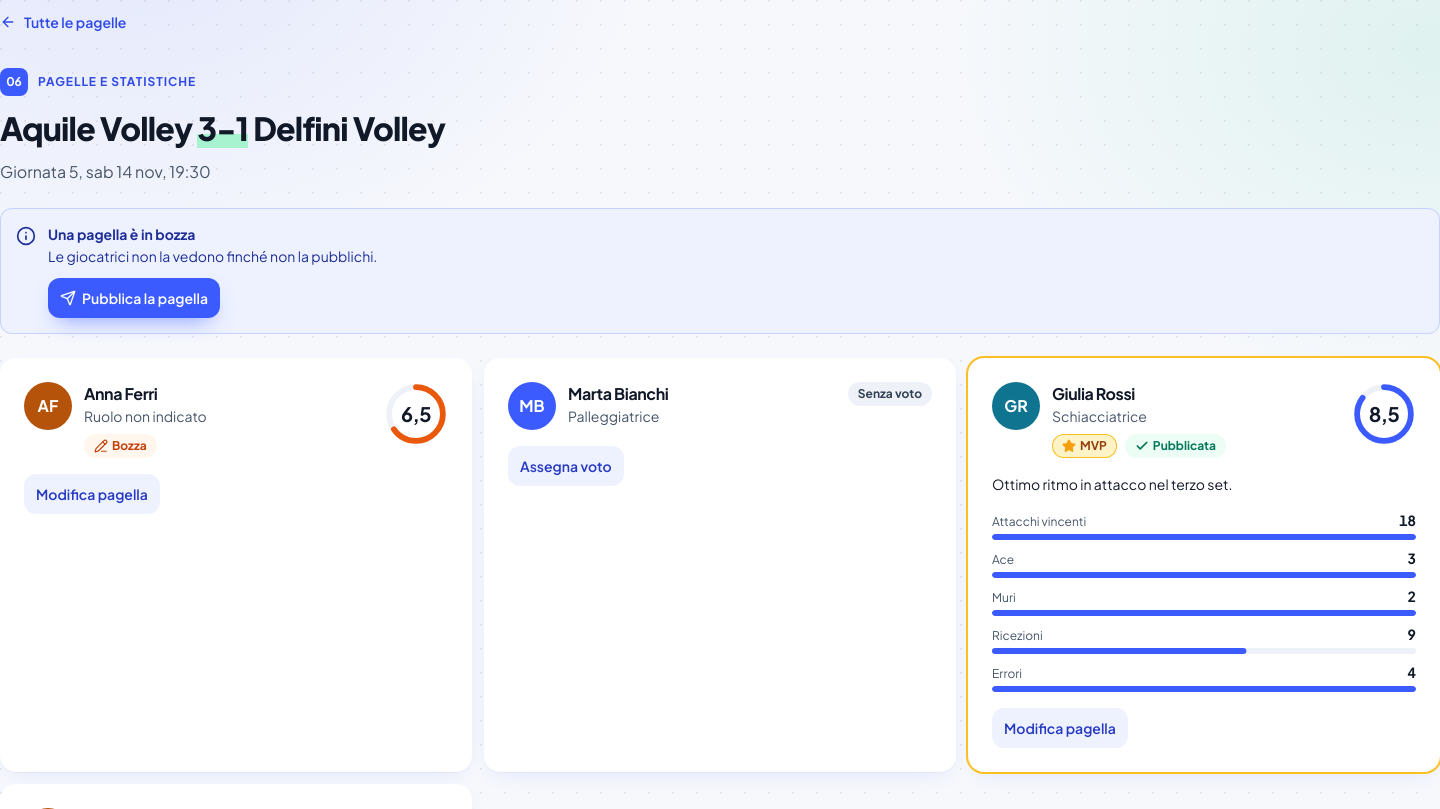
Scenario: MatchReportView as the coach › shows the server error inside the dialog
Click the button with aria-label "Assegna voto a Marta Bianchi": click(566, 466) x1=508 y1=446 x2=624 y2=486
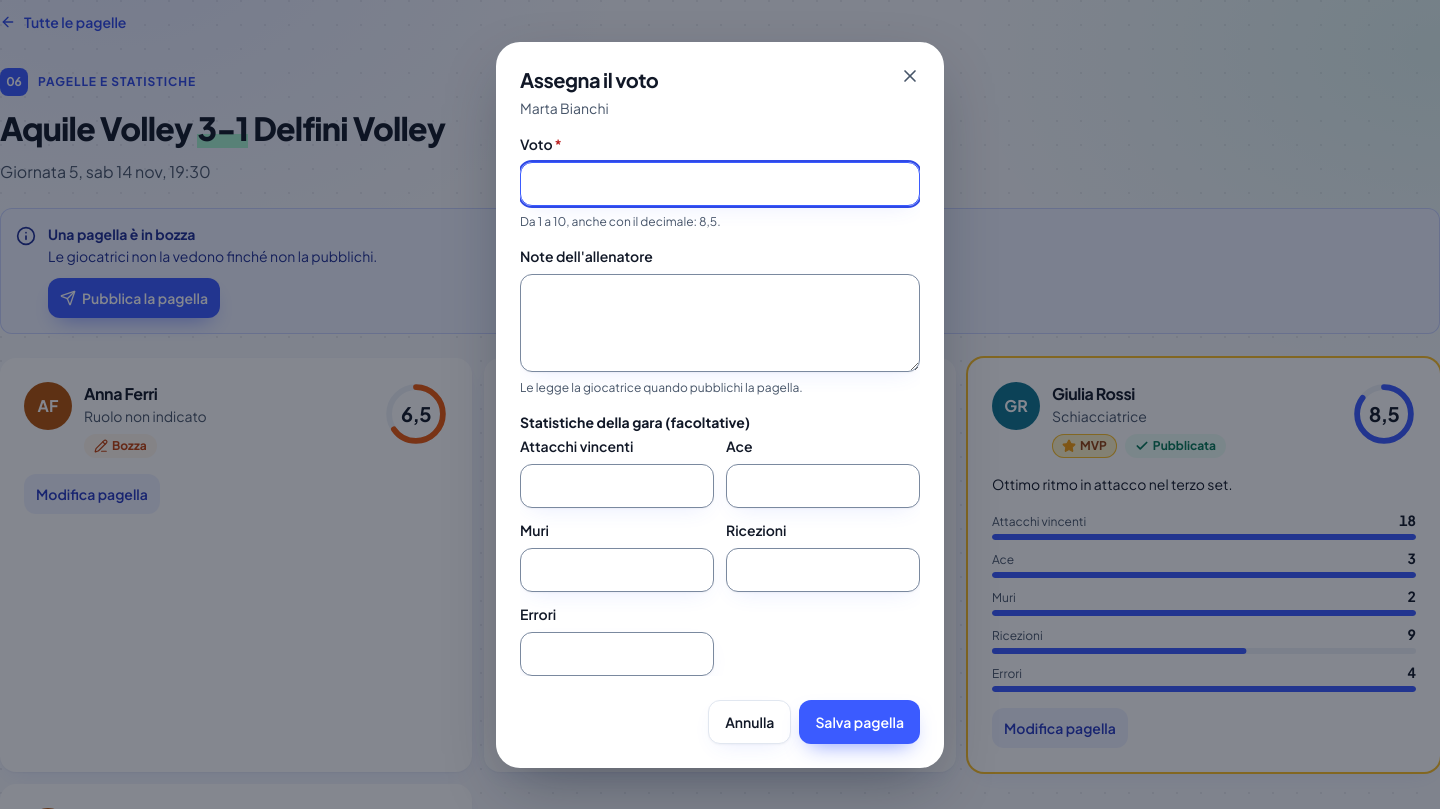
In the field labelled "Voto*": (720, 184) x1=520 y1=162 x2=920 y2=206, type "7"
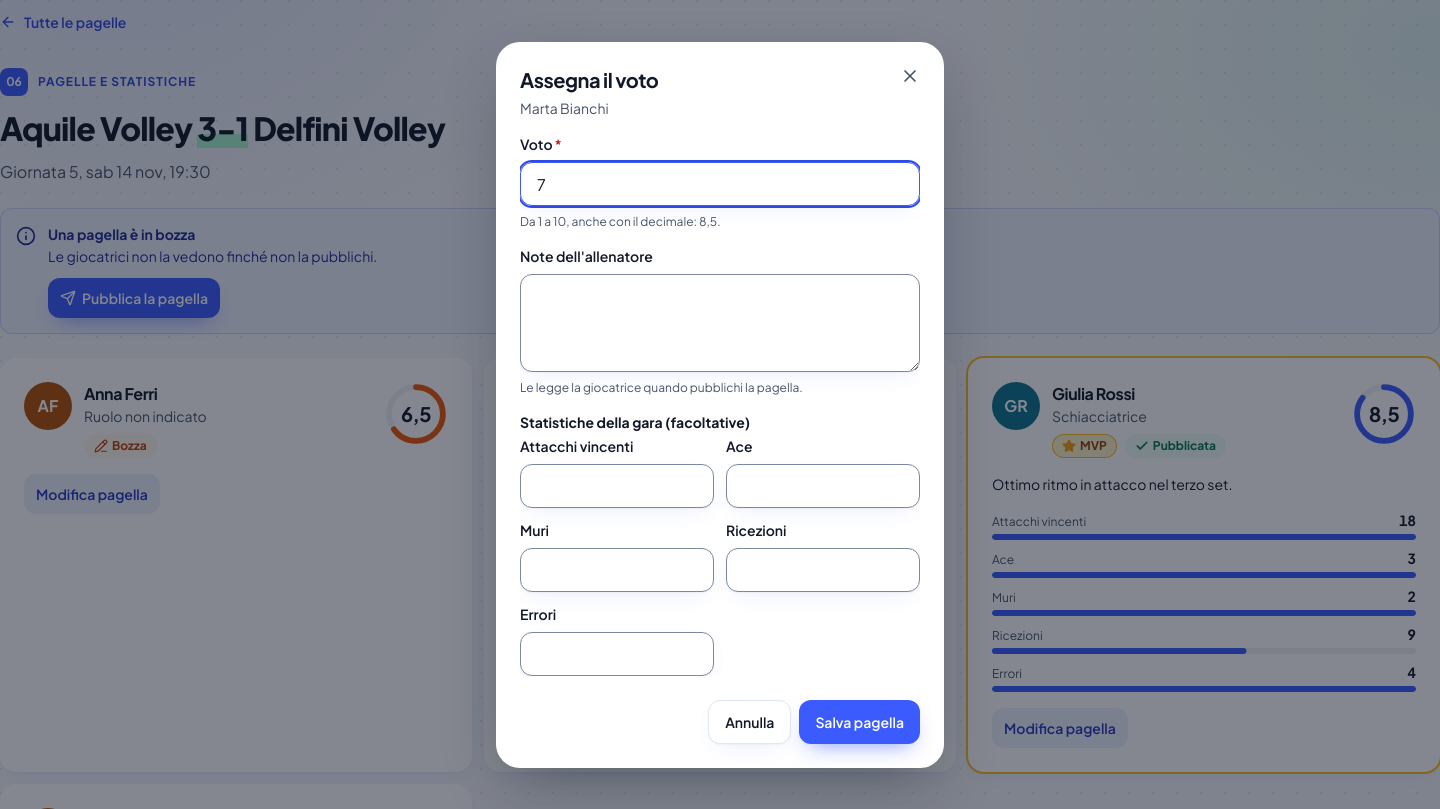
Click the button "Salva pagella": click(860, 722) x1=799 y1=700 x2=920 y2=744
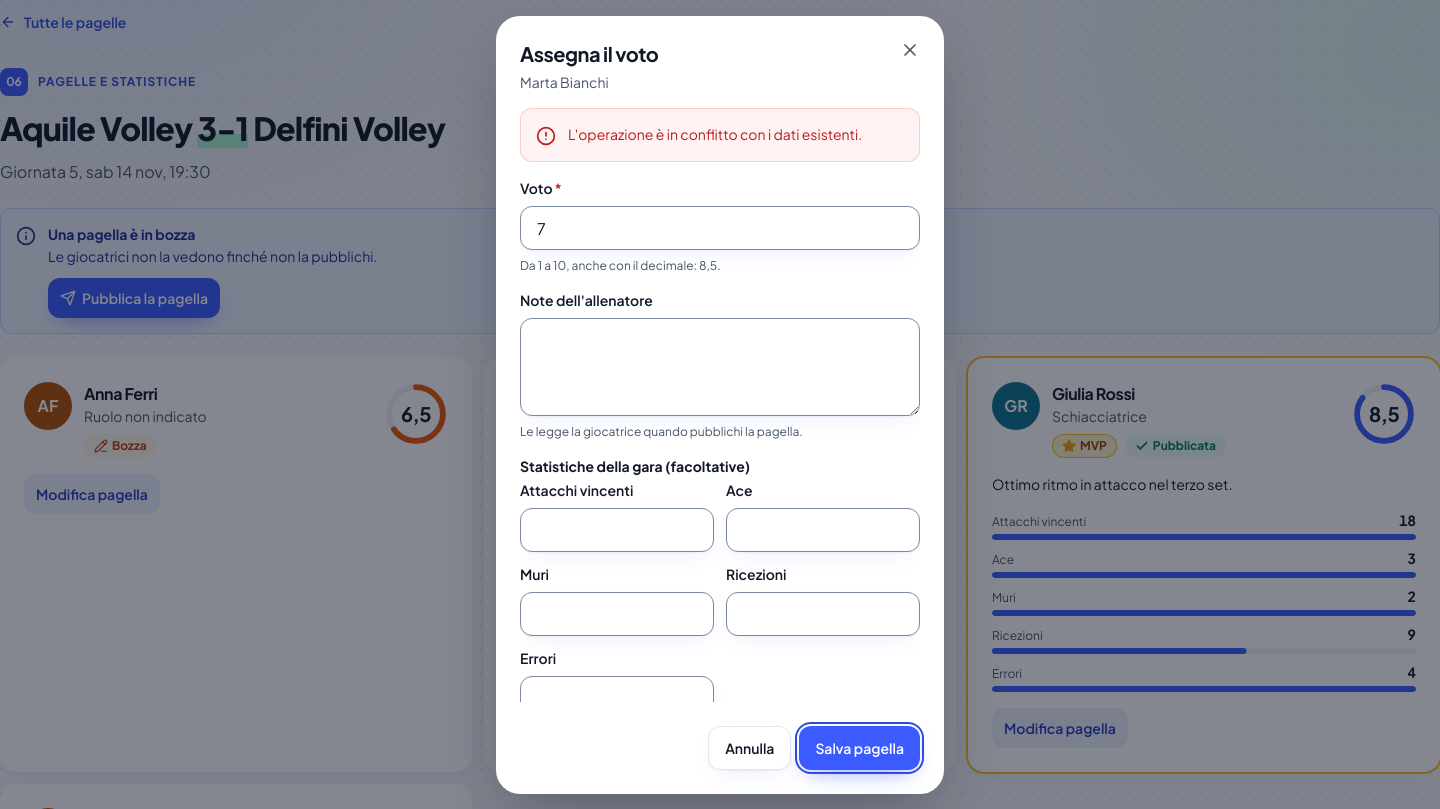
Check: the text "L'operazione è in conflitto con i dati esistenti." is shown, box x1=568 y1=124 x2=862 y2=144
